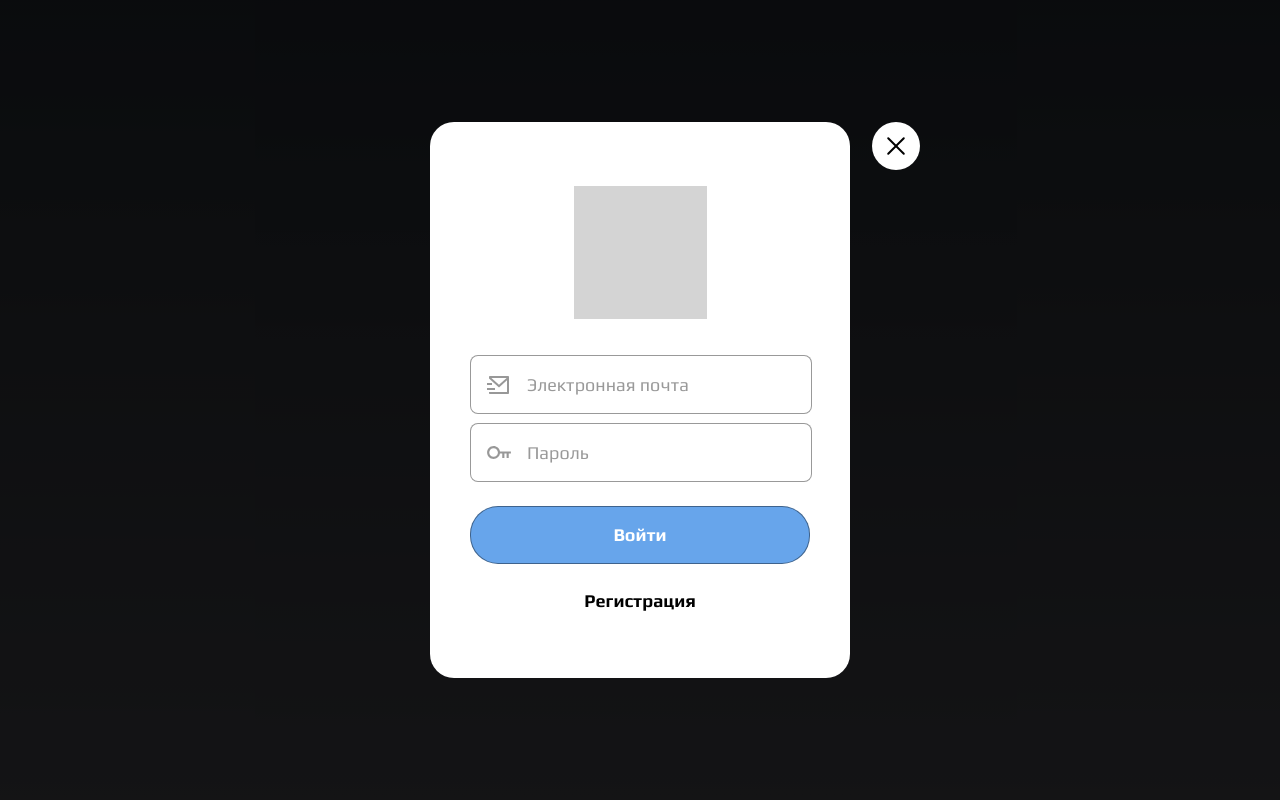
Test: AuthorizationPage.vue › показывает ошибку при неверных данных
The image size is (1280, 800).
Step 1. Type "wrong@example.com" into the field with placeholder "Электронная почта" → (641, 384), box top-left (470, 355), bottom-right (812, 414)
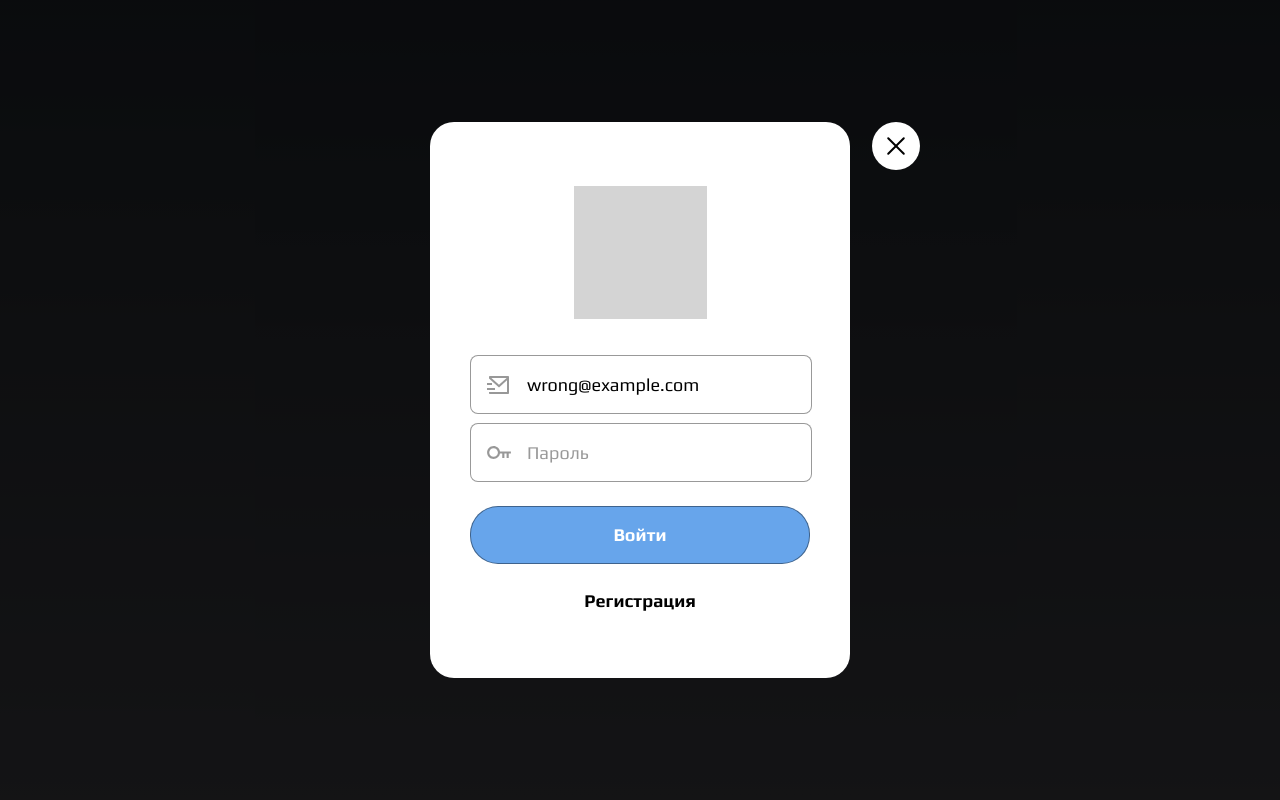
Step 2. Type "wrongpass" into the password field with placeholder "Пароль" → (641, 452), box top-left (470, 423), bottom-right (812, 482)
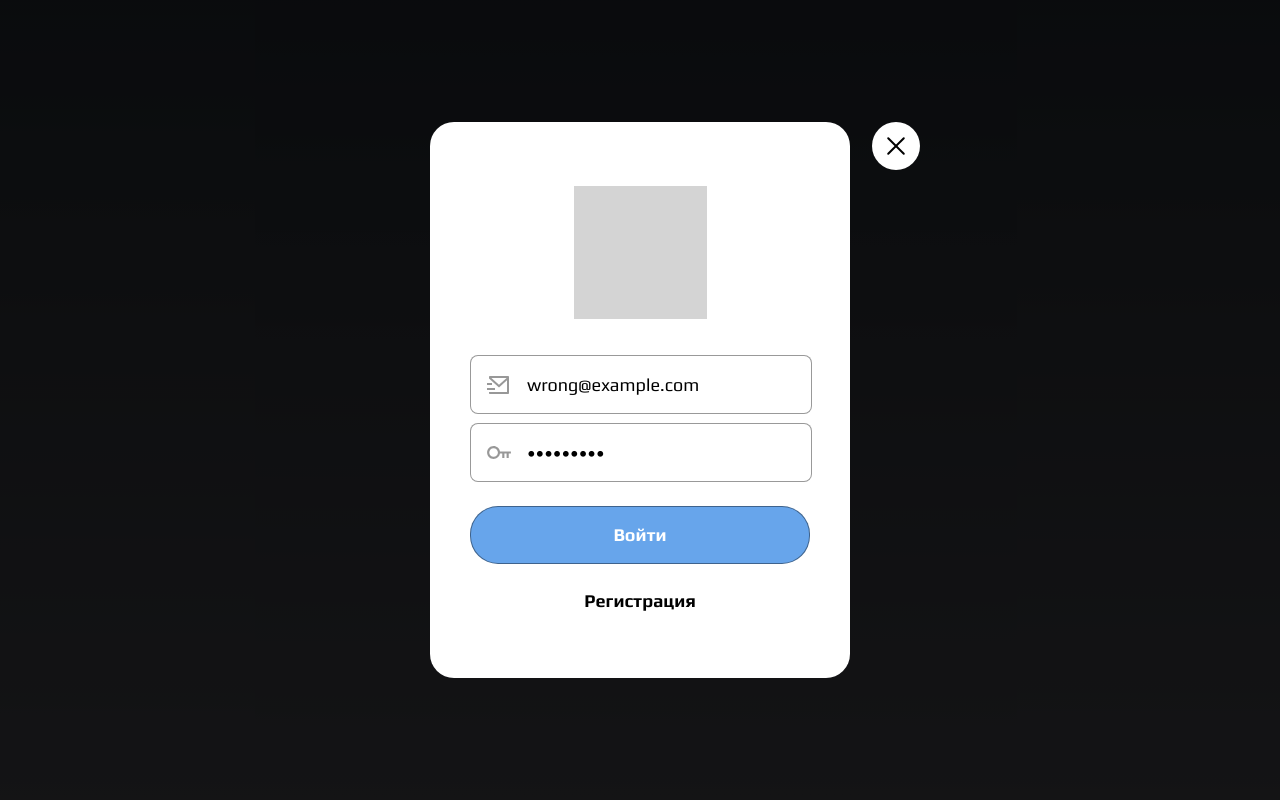
Step 3. Click the button "Войти" → (640, 535), box top-left (470, 506), bottom-right (810, 564)
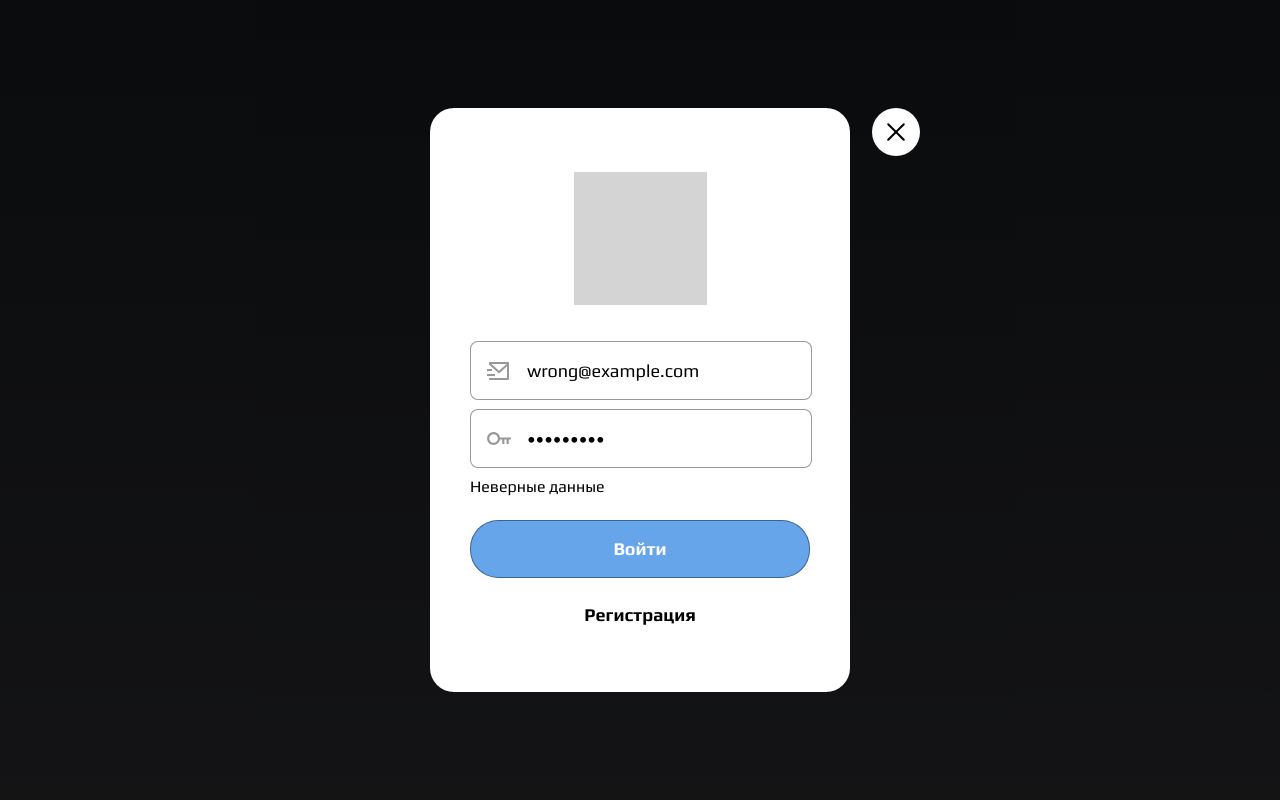
Check: the text "Неверные данные" is shown, box top-left (470, 477), bottom-right (605, 496)
